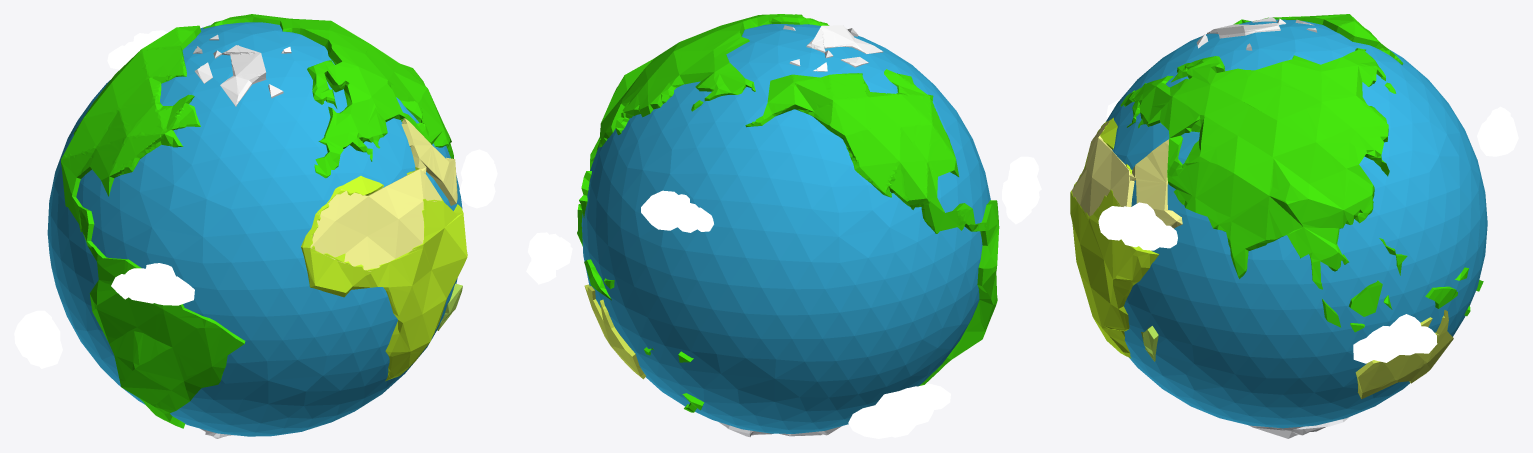
3 views of the same model, side by side, from view 1: azimuth 30°, elevation 25°; view 2: azimuth 150°, elevation 25°; view 3: azimuth 270°, elevation 25° (orthographic).
Visible parts, largest first — view 1: Икосфера, usa.001, usa, russia, africa, africa.001, sky, grend, oae; view 2: Икосфера, usa.001, sky, russia, usa, grend, indos, aust; view 3: Икосфера, russia, africa, sky, africa.001, aust, oae, indos, usa.001, grend, ath.
Part boxes in pixels (x1,y1,x2,y2): Икосфера: (47,22,462,436); usa.001: (61,25,201,261); usa: (89,256,245,428); russia: (203,14,453,178); africa: (301,167,467,381); africa.001: (310,169,441,271); sky: (14,30,497,368); grend: (193,34,291,106); oae: (401,118,457,205); Икосфера: (581,24,990,433); usa.001: (745,69,986,235); sky: (526,156,1041,438); russia: (590,14,829,169); usa: (919,200,999,385); grend: (783,25,883,71); indos: (577,171,703,412); aust: (584,284,645,379); Икосфера: (1106,19,1487,428); russia: (1120,48,1396,289); africa: (1070,117,1159,358); sky: (1098,84,1518,363); africa.001: (1072,120,1134,218); aust: (1355,310,1453,399); oae: (1129,139,1182,228); indos: (1322,238,1483,332); usa.001: (1233,14,1403,64); grend: (1196,17,1317,50); ath: (1249,417,1349,438).
Bounding box in the file's own units: 18.73 × 17.96 × 18.59.
